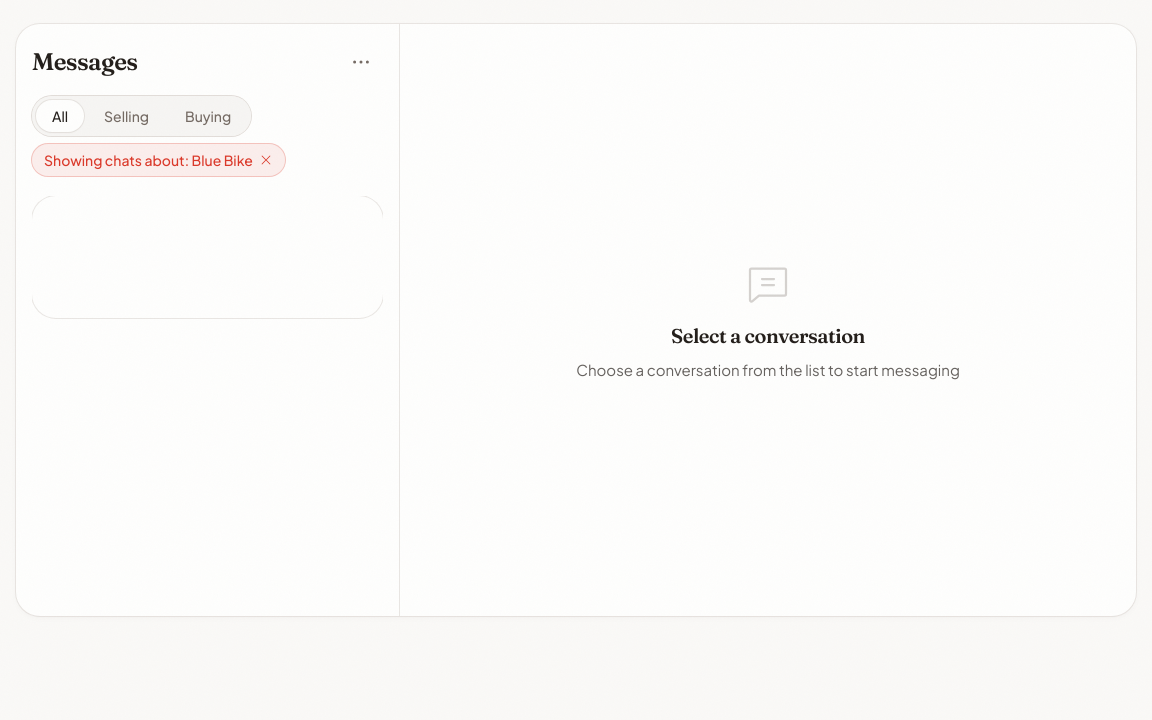
Test: MessagesPage - ?flyer= filter chip › dismissing the chip clears the filter and restores the full list
What coordinates should you click on to do the following:
click the button with aria-label "Stop showing chats about Blue Bike"
I would click on:
 (158, 160)
Its box is [32,144,285,176].
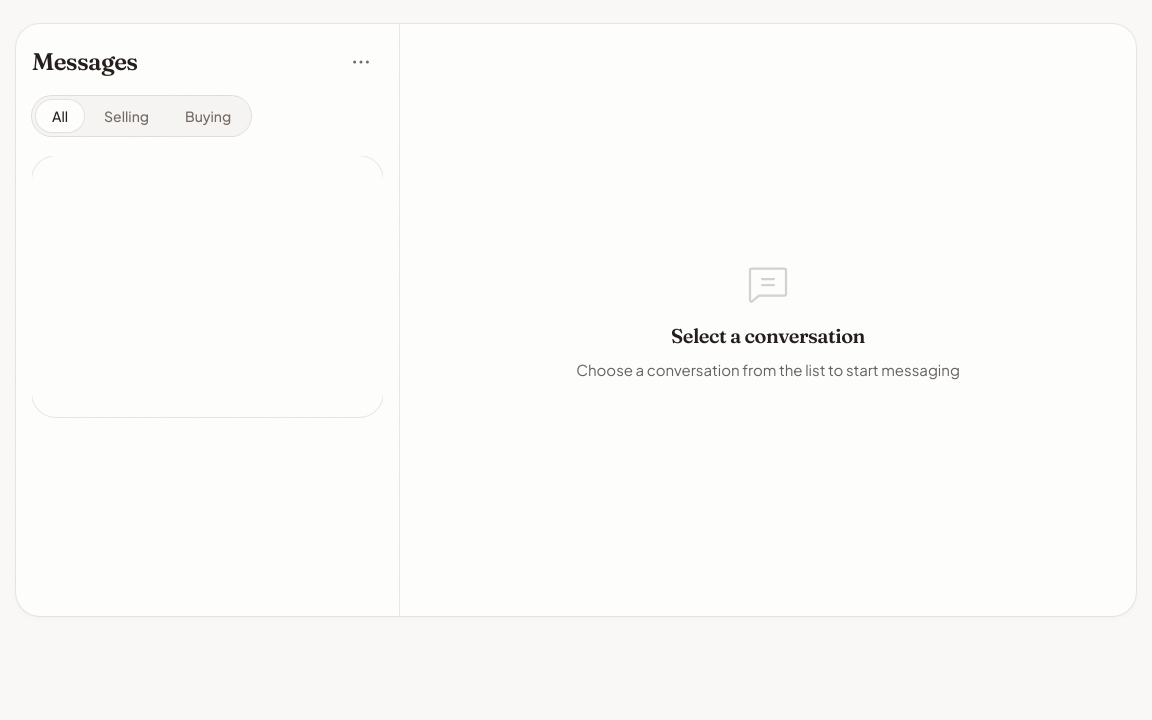
Expected: the button "Showing chats about:" is gone
